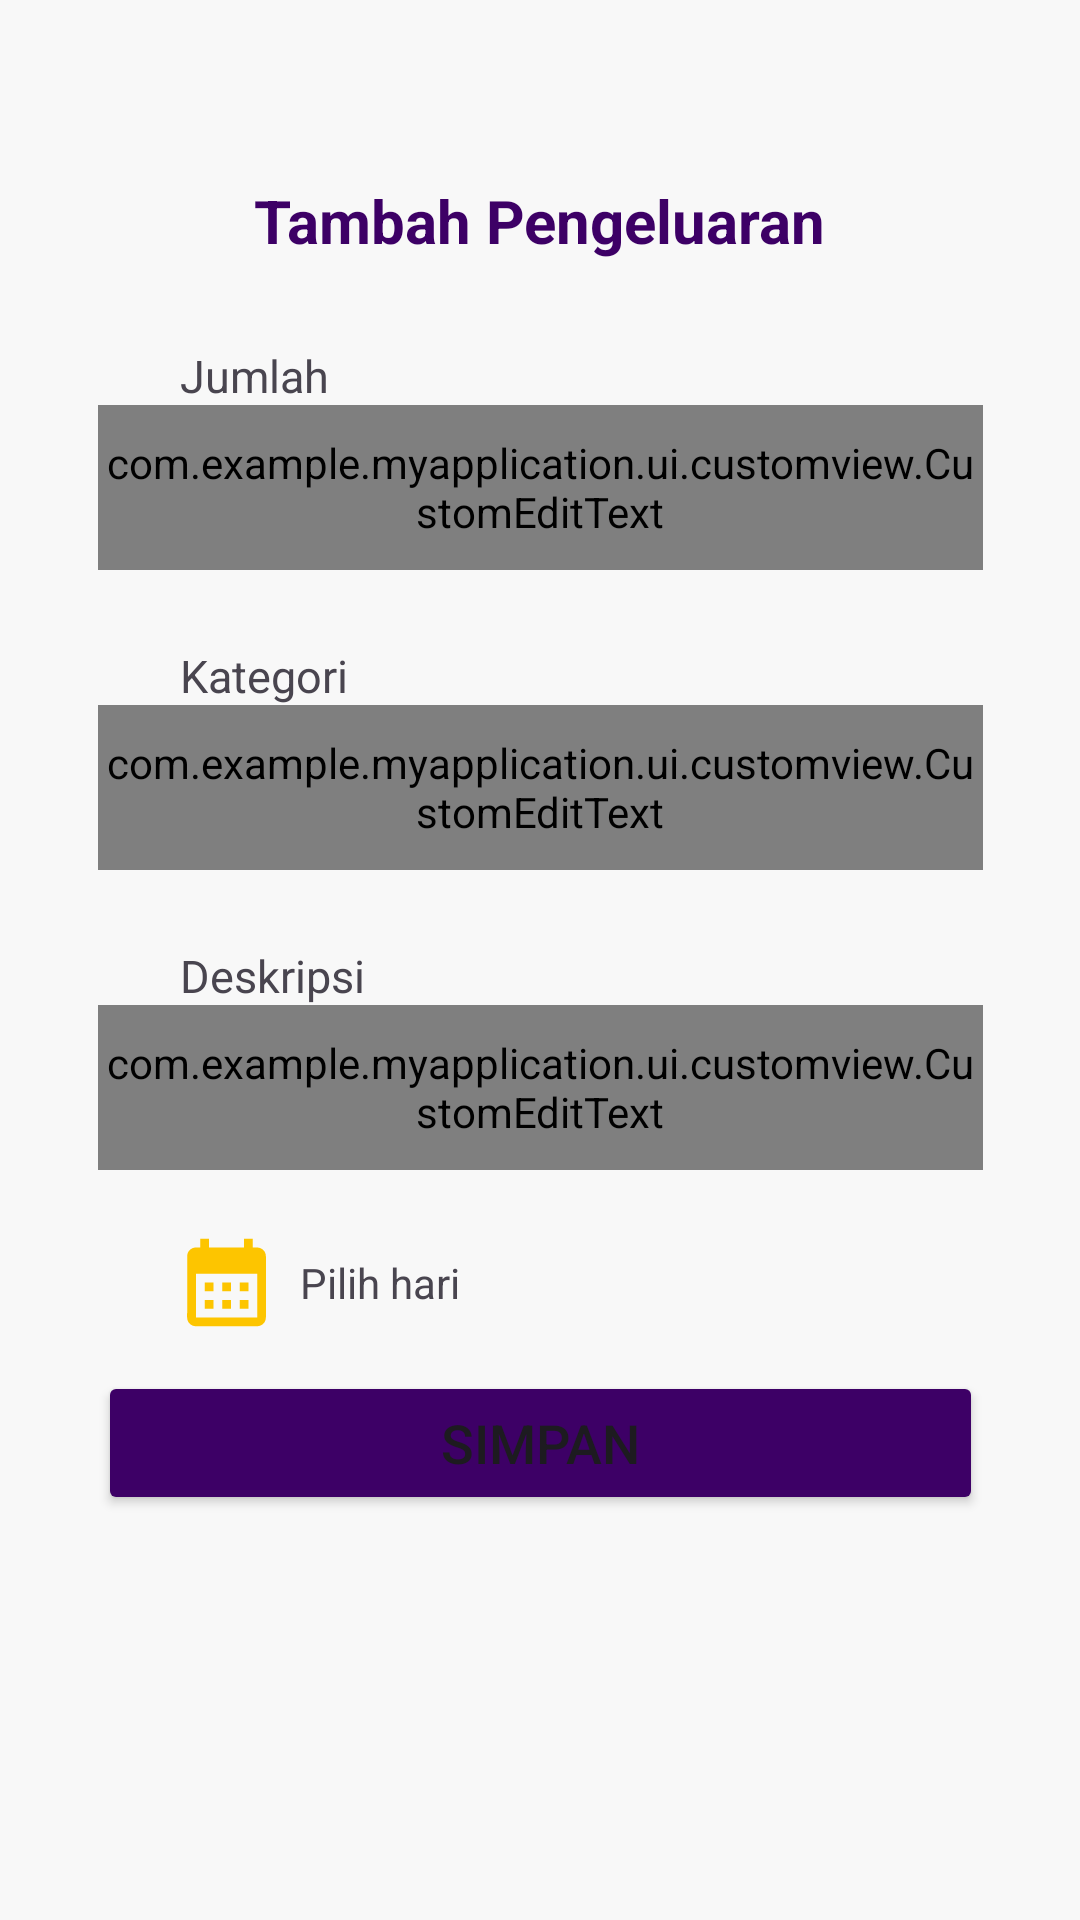

Locate icon controls on the screen. Image size 1080w x 1920h, boxes as BBox(x1, y1, x2, y2).
calendar month: BBox(187, 1238, 266, 1327)
